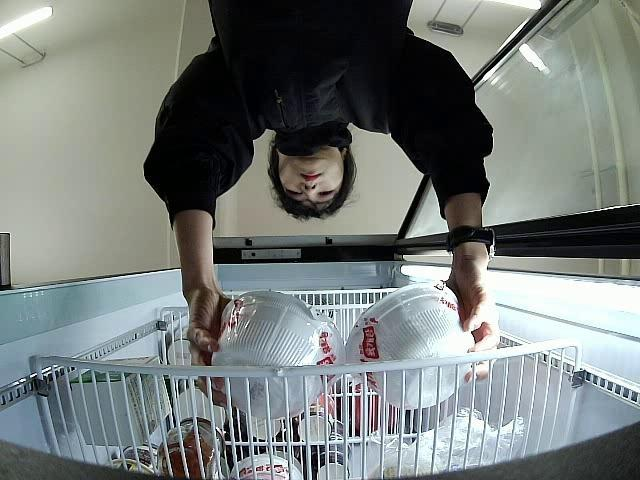09_yukGaeJang: (212, 290, 346, 420), (346, 284, 475, 410)
